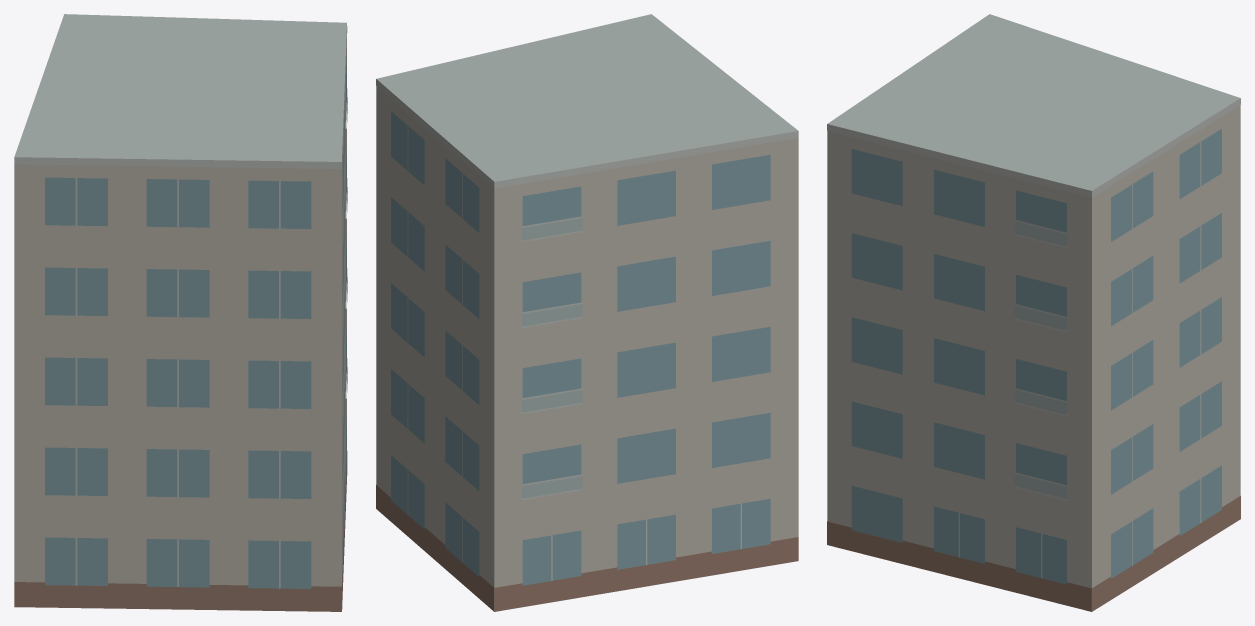
File: survey-upis-32718556.glb
3 renders of one model, left to right at view 1: azimuth 30°, elevation 25°; view 2: azimuth 150°, elevation 25°; view 3: azimuth 270°, elevation 25°, orthographic. The views are drawn at different scales.
Visible parts, largest first — view 1: survey-upis-32718556.tmp; view 2: survey-upis-32718556.tmp; view 3: survey-upis-32718556.tmp.
Boxes of the visible parts, x1,y1,x2,y2 form: survey-upis-32718556.tmp: (14, 14, 347, 611); survey-upis-32718556.tmp: (376, 14, 798, 611); survey-upis-32718556.tmp: (827, 14, 1240, 611).
Size of the model in its own units: 13.89 by 15.4 by 13.72.
